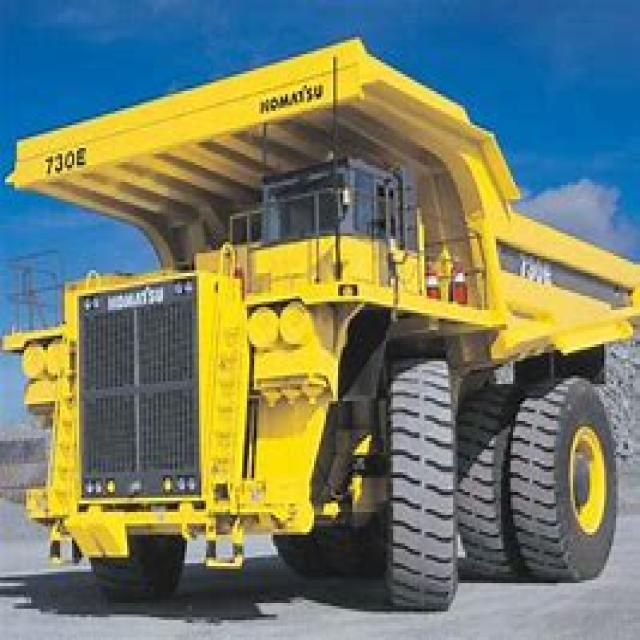dump_truck: (10, 28, 635, 609)
